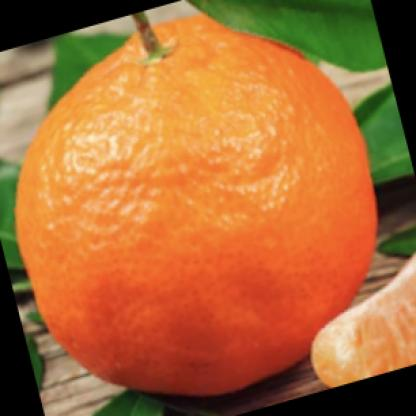fresh: (16, 20, 378, 399)
